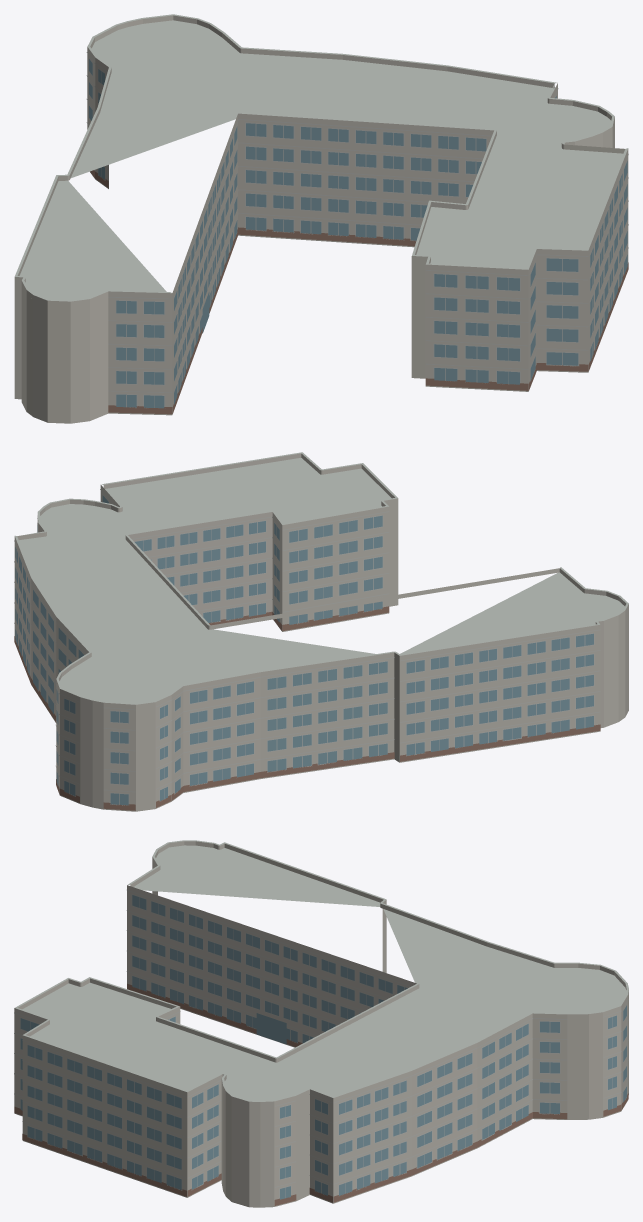
File: public-c82c372e-b10c-4185-9d7e-c6cef11f26f6.glb
The picture shows the model from 3 angles, top to bottom: view 1: azimuth 30°, elevation 25°; view 2: azimuth 150°, elevation 25°; view 3: azimuth 270°, elevation 25°; orthographic projection. The views are drawn at different scales.
Parts seen in each view (by area): view 1: public-c82c372e-b10c-4185-9d7e-c6cef11f26f6; view 2: public-c82c372e-b10c-4185-9d7e-c6cef11f26f6; view 3: public-c82c372e-b10c-4185-9d7e-c6cef11f26f6.
Boxes of the visible parts, <box> form: public-c82c372e-b10c-4185-9d7e-c6cef11f26f6: <box>14,14,628,423</box>; public-c82c372e-b10c-4185-9d7e-c6cef11f26f6: <box>14,452,628,811</box>; public-c82c372e-b10c-4185-9d7e-c6cef11f26f6: <box>14,840,628,1207</box>.
Bounding box in the file's own units: 81.03 × 15.25 × 80.45.
